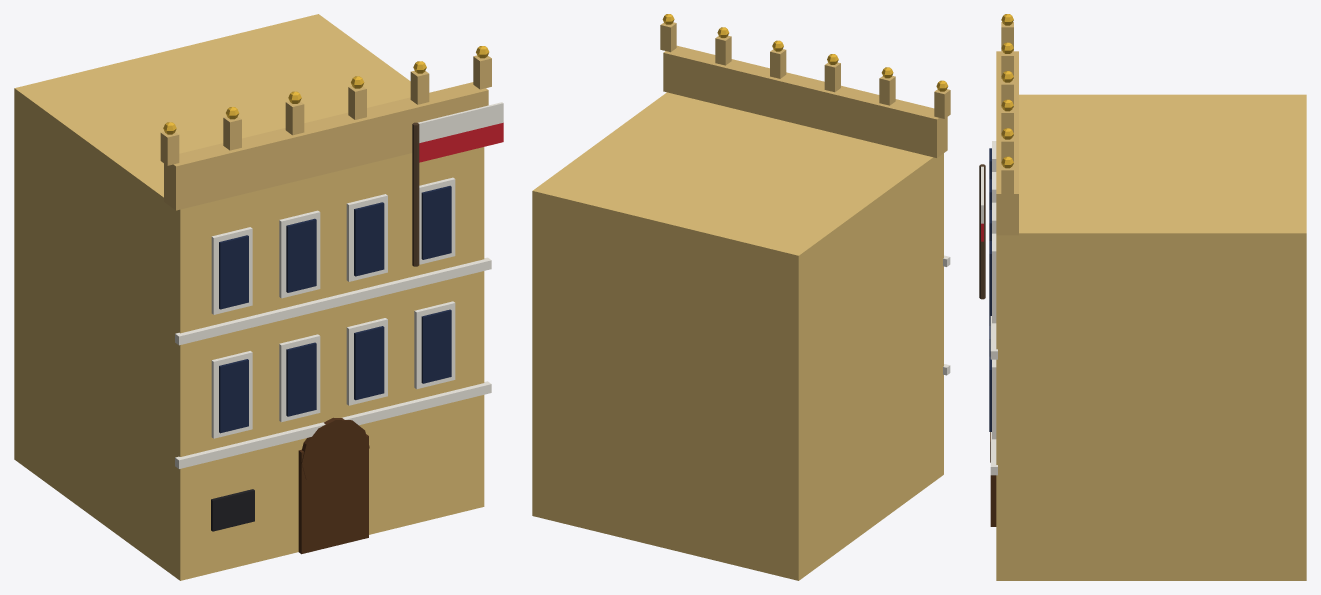
Rendered from knp_warszawa.glb.
The picture shows the model from 3 angles, left to right: view 1: azimuth 30°, elevation 25°; view 2: azimuth 150°, elevation 25°; view 3: azimuth 270°, elevation 25°; orthographic projection. The views are drawn at different scales.
Visible parts, largest first — view 1: knp_warszawa; view 2: knp_warszawa; view 3: knp_warszawa.
Boxes of the visible parts, <box> form: knp_warszawa: <box>14,14,503,580</box>; knp_warszawa: <box>532,14,950,580</box>; knp_warszawa: <box>979,14,1306,580</box>.
Bounding box in the file's own units: 3.85 × 5.15 × 3.59.
